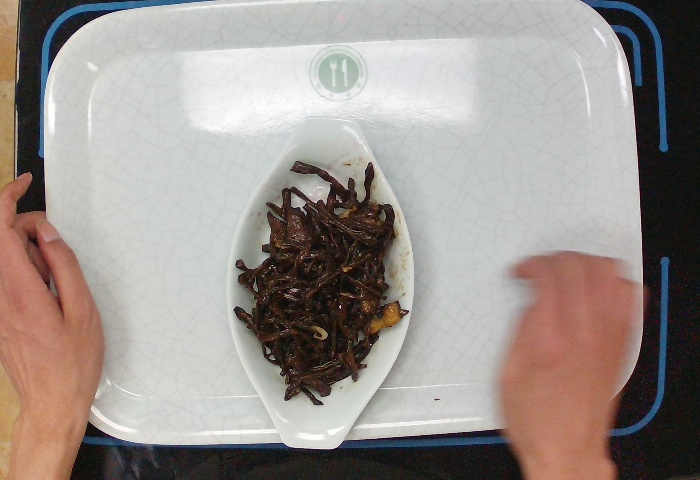JYsf-Yu_Pan: (217, 115, 417, 450)
